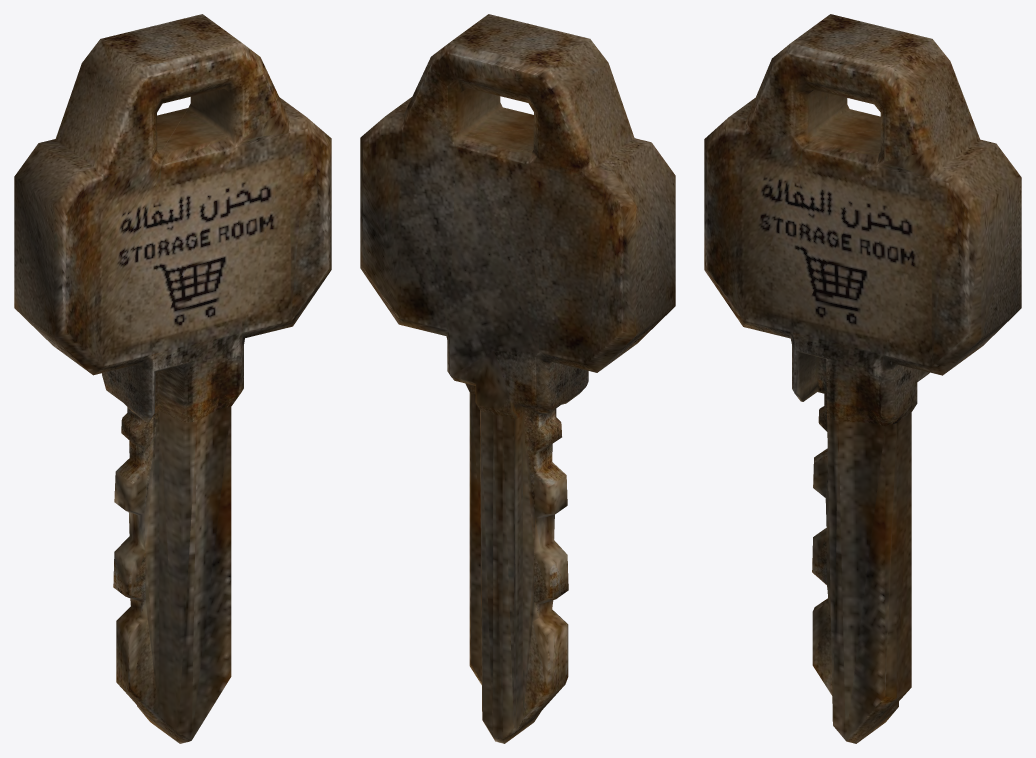
The model's file is StorageRoomKey.fbx.
3 views of the same model, side by side, from view 1: azimuth 30°, elevation 25°; view 2: azimuth 150°, elevation 25°; view 3: azimuth 330°, elevation 25° (orthographic).
Parts seen in each view (by area): view 1: tripo_node_795b55fe; view 2: tripo_node_795b55fe; view 3: tripo_node_795b55fe.
Part boxes in pixels (x1,y1,x2,y2): tripo_node_795b55fe: (14,14,331,743); tripo_node_795b55fe: (360,14,675,743); tripo_node_795b55fe: (704,14,1021,743).
Bounding box in the file's own units: 41.85 × 99.95 × 12.74.
1 material, 1 textured.
